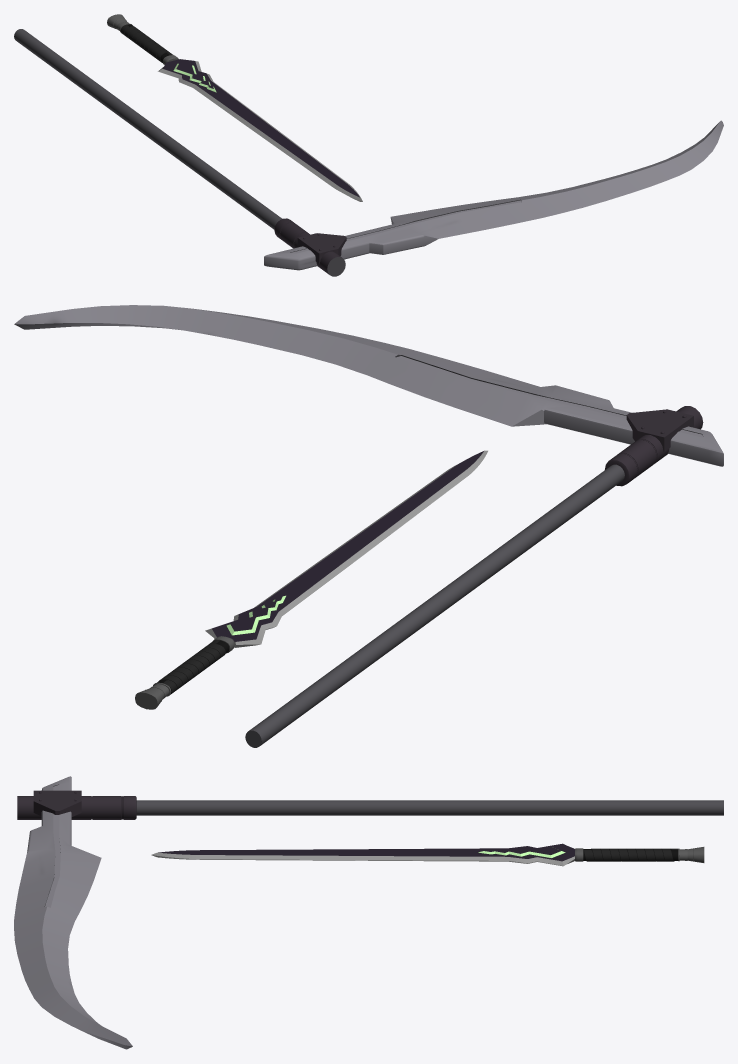
File: swords.gltf
The picture shows the model from 3 angles, top to bottom: view 1: azimuth 30°, elevation 25°; view 2: azimuth 150°, elevation 25°; view 3: azimuth 270°, elevation 25°; orthographic projection. The views are drawn at different scales.
Visible parts, largest first — view 1: Plane, Plane.001; view 2: Plane, Plane.001; view 3: Plane, Plane.001.
Boxes of the visible parts, left/top/right/bottom form: Plane: left=14, top=29, right=723, bottom=276; Plane.001: left=107, top=14, right=362, bottom=201; Plane: left=14, top=305, right=723, bottom=747; Plane.001: left=135, top=450, right=487, bottom=709; Plane: left=14, top=776, right=723, bottom=1049; Plane.001: left=151, top=843, right=704, bottom=866.
Bounding box in the file's own units: 2.24 × 0.0941 × 2.54.
Materials: 2 (2 with a texture image).
